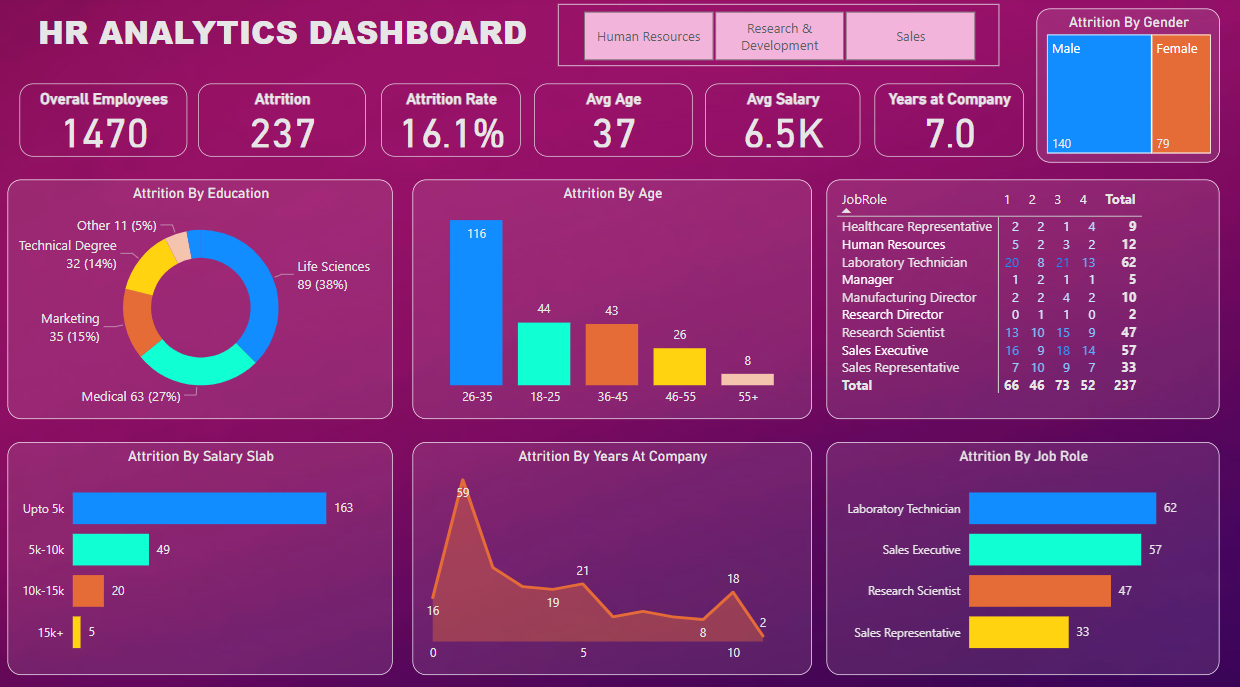

The dashboard page shown, as its layout file describes it:
{"tool":"powerbi","page":{"name":"Page 1","canvas":[1280,720],"ordinal":0},"visuals":[{"type":"card","title":"Overall Employees","fields":{"Values":["CountNonNull(HR_Analytics.EmpID)"]},"box":[28.6,90.5,171.4,74.6],"z":0},{"type":"card","title":"Attrition","fields":{"Values":["Sum(HR_Analytics.AttritionCount)"]},"box":[211.1,90.5,171.4,74.6],"z":1000},{"type":"card","title":"Attrition Rate","fields":{"Values":["HR_Analytics.AttritionRate"]},"box":[398.4,90.5,142.9,74.6],"z":2000},{"type":"card","title":"Avg Age","fields":{"Values":["Avg(HR_Analytics.Age)"]},"box":[554,90.5,161.9,74.6],"z":3000},{"type":"card","title":" Years at Company","fields":{"Values":["Avg(HR_Analytics.YearsAtCompany)"]},"box":[901.6,90.5,152.4,74.6],"z":4000},{"type":"card","title":"Avg Salary","fields":{"Values":["Avg(HR_Analytics.MonthlyIncome)"]},"box":[728.6,90.5,158.7,74.6],"z":5000},{"type":"donutChart","title":"Attrition By Education","fields":{"Category":["HR_Analytics.EducationField"],"Y":["Sum(HR_Analytics.AttritionCount)"]},"box":[17.5,188.9,393.7,244.4],"z":6000},{"type":"columnChart","title":"Attrition By Age","fields":{"Category":["HR_Analytics.AgeGroup"],"Y":["Sum(HR_Analytics.AttritionCount)"]},"box":[430.2,188.9,407.9,244.4],"z":7000},{"type":"pivotTable","fields":{"Rows":["HR_Analytics.JobRole"],"Columns":["HR_Analytics.JobSatisfaction"],"Values":["Sum(HR_Analytics.AttritionCount)"]},"box":[854,188.9,401.6,244.4],"z":8000},{"type":"barChart","title":"Attrition By Salary Slab","fields":{"Category":["HR_Analytics.SalarySlab"],"Y":["Sum(HR_Analytics.AttritionCount)"]},"box":[17.5,457.1,393.7,238.1],"z":9000},{"type":"barChart","title":"Attrition By Job Role","fields":{"Y":["Sum(HR_Analytics.AttritionCount)"],"Category":["HR_Analytics.JobRole"]},"box":[854,457.1,401.6,238.1],"z":10000},{"type":"areaChart","title":"Attrition By Years At Company","fields":{"Category":["HR_Analytics.YearsAtCompany"],"Y":["Sum(HR_Analytics.AttritionCount)"]},"box":[430.2,457.1,407.9,238.1],"z":11000},{"type":"treemap","title":"Attrition By Gender","fields":{"Group":["HR_Analytics.Gender"],"Values":["Sum(HR_Analytics.AttritionCount)"]},"box":[1068.3,14.3,187.3,157.1],"z":12000},{"type":"slicer","fields":{"Values":["HR_Analytics.Department"]},"box":[579.4,9.5,450.8,63.5],"z":13000},{"type":"textbox","box":[17.5,9.5,561.9,63.5],"z":14000}]}

Visuals, with their boxes in screenshot pixels (x1, y1, x2, y2), scaled from the page's 1280x720 canvas onto the 1240x687 screenshot:
"Overall Employees" card: x1=28, y1=86, x2=194, y2=158
"Attrition" card: x1=205, y1=86, x2=371, y2=158
"Attrition Rate" card: x1=386, y1=86, x2=524, y2=158
"Avg Age" card: x1=537, y1=86, x2=694, y2=158
" Years at Company" card: x1=873, y1=86, x2=1021, y2=158
"Avg Salary" card: x1=706, y1=86, x2=860, y2=158
"Attrition By Education" donutChart: x1=17, y1=180, x2=398, y2=413
"Attrition By Age" columnChart: x1=417, y1=180, x2=812, y2=413
pivotTable - HR_Analytics.JobRole x HR_Analytics.JobSatisfaction: x1=827, y1=180, x2=1216, y2=413
"Attrition By Salary Slab" barChart: x1=17, y1=436, x2=398, y2=663
"Attrition By Job Role" barChart: x1=827, y1=436, x2=1216, y2=663
"Attrition By Years At Company" areaChart: x1=417, y1=436, x2=812, y2=663
"Attrition By Gender" treemap: x1=1035, y1=14, x2=1216, y2=164
slicer - HR_Analytics.Department: x1=561, y1=9, x2=998, y2=70
textbox: x1=17, y1=9, x2=561, y2=70
